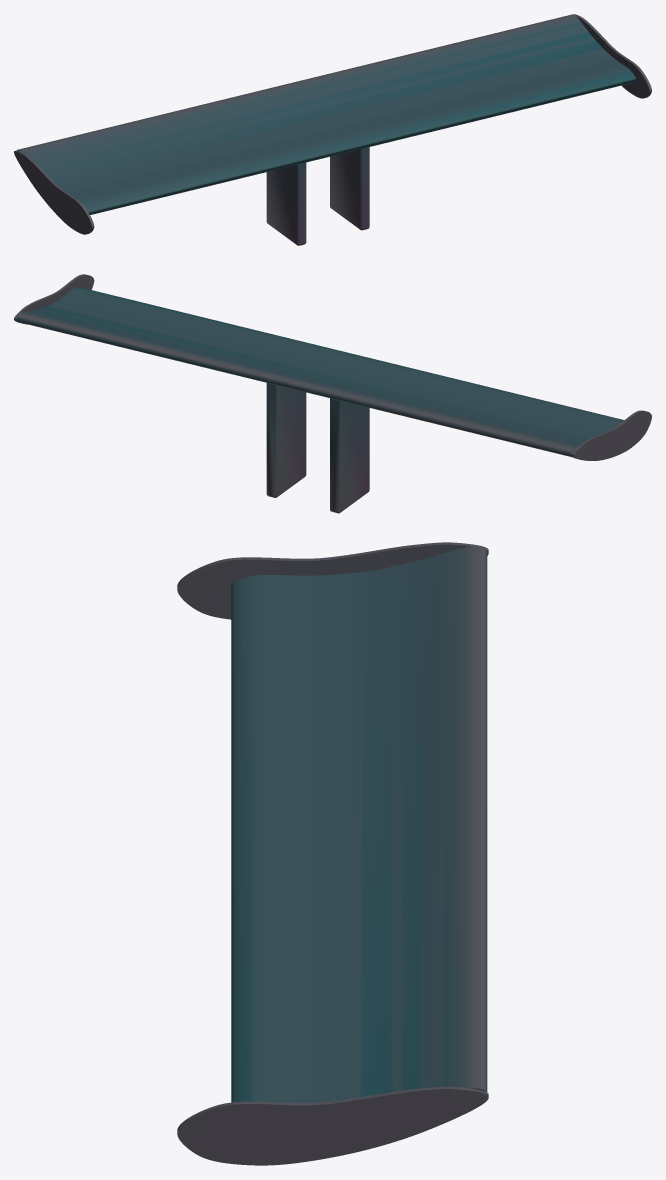
3 renders of one model, top to bottom at view 1: azimuth 30°, elevation 25°; view 2: azimuth 150°, elevation 25°; view 3: azimuth 270°, elevation 25°, orthographic. The views are drawn at different scales.
Parts seen in each view (by area): view 1: airfoil, blade.001, blade, tip_plate.001, tip_plate; view 2: airfoil, blade, blade.001, tip_plate.001, tip_plate; view 3: airfoil, tip_plate, tip_plate.001.
Boxes of the visible parts, left/top/right/bottom form: airfoil: left=17, top=14, right=635, bottom=214; blade.001: left=266, top=162, right=306, bottom=245; blade: left=330, top=147, right=369, bottom=230; tip_plate.001: left=14, top=150, right=94, bottom=234; tip_plate: left=574, top=14, right=651, bottom=98; airfoil: left=16, top=287, right=624, bottom=457; blade: left=266, top=383, right=306, bottom=497; blade.001: left=330, top=398, right=369, bottom=513; tip_plate.001: left=571, top=410, right=651, bottom=460; tip_plate: left=14, top=274, right=94, bottom=324; airfoil: left=231, top=546, right=487, bottom=1102; tip_plate: left=177, top=1086, right=488, bottom=1165; tip_plate.001: left=177, top=542, right=488, bottom=619.
Bounding box in the file's own units: 1.4 × 0.3088 × 0.3372.
